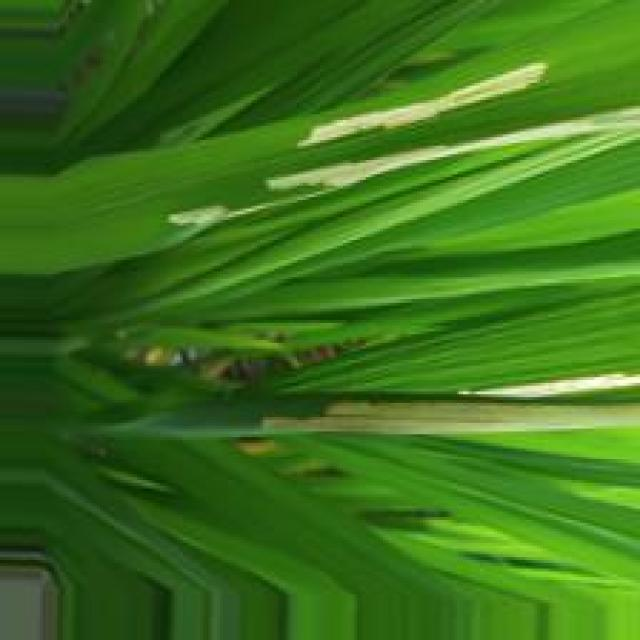Rice_Hispa: (278, 100, 640, 187), (300, 62, 542, 147), (254, 403, 640, 435)
